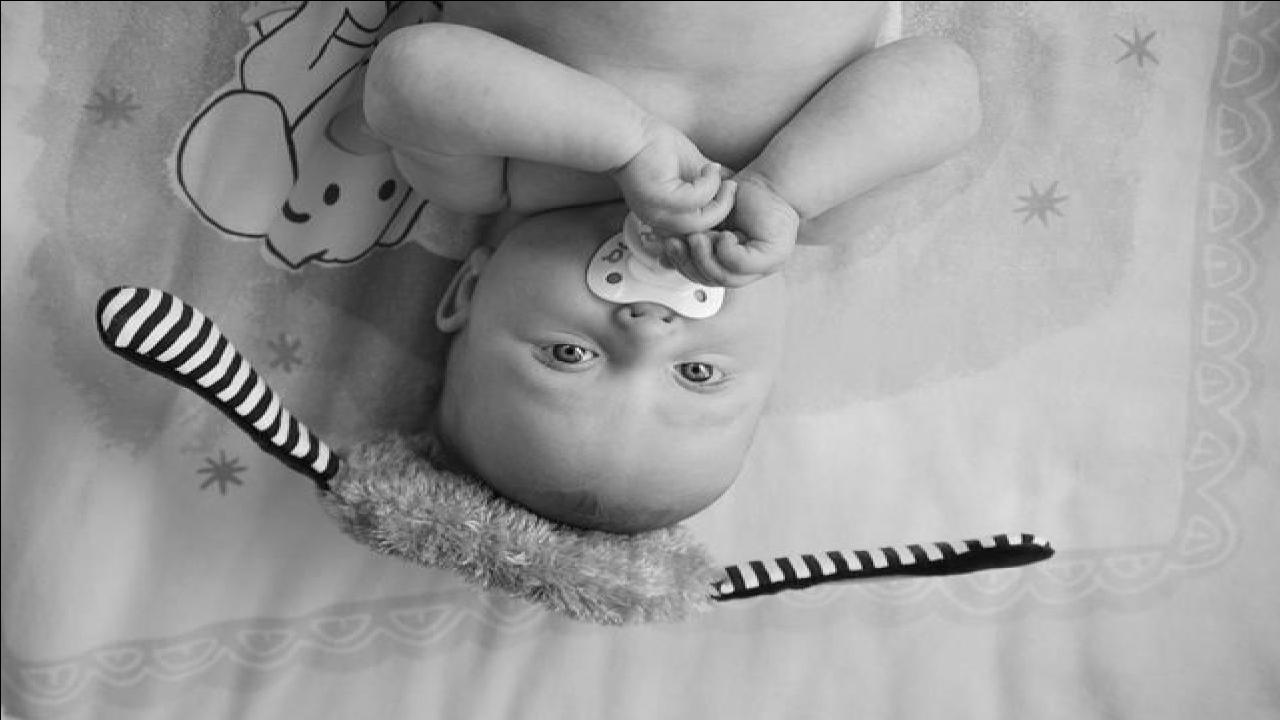hand: (658, 176, 799, 288), (616, 132, 736, 233)
